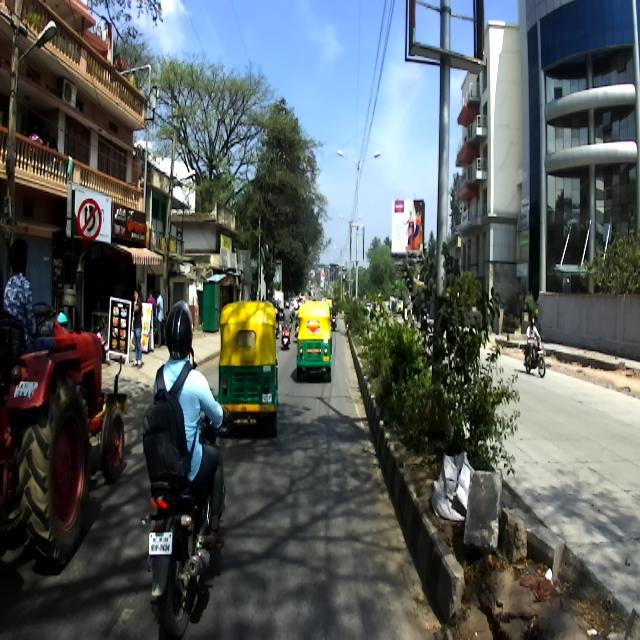auto ahead at: (218, 298, 280, 435), (296, 303, 336, 388)
motorcycle ahead at: (137, 466, 230, 630)
truck ahead at: (2, 310, 126, 574)
